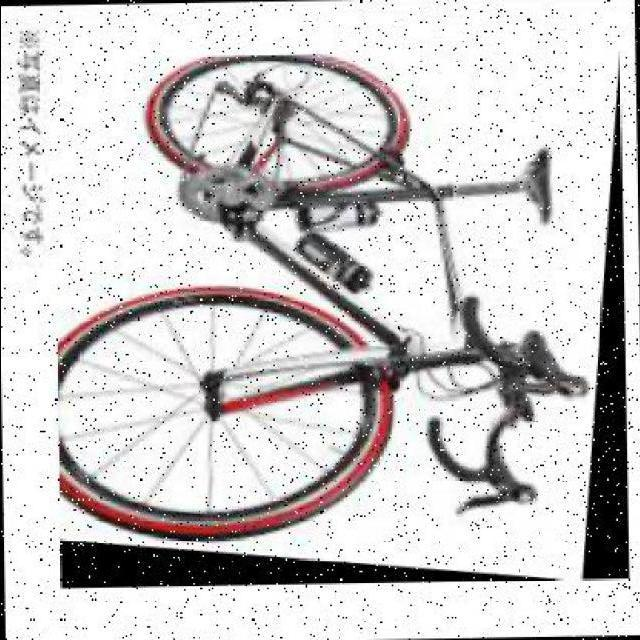bicycle: (51, 49, 629, 591)
